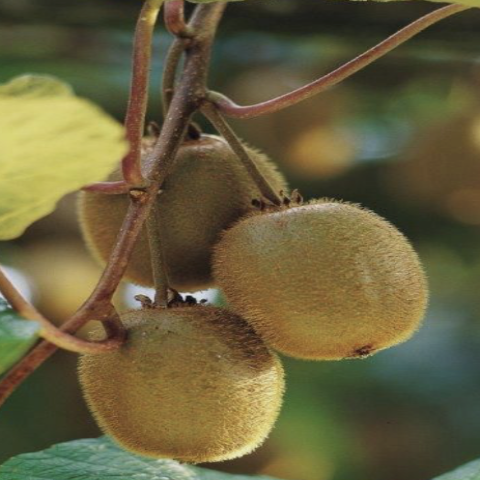kiwi: (60, 288, 318, 466), (80, 127, 308, 305), (205, 195, 446, 362)
